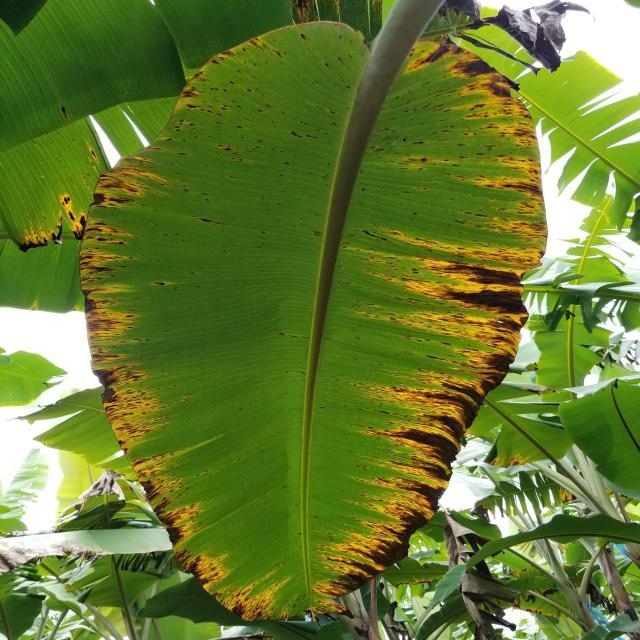Early_rust: (5, 17, 550, 640)
